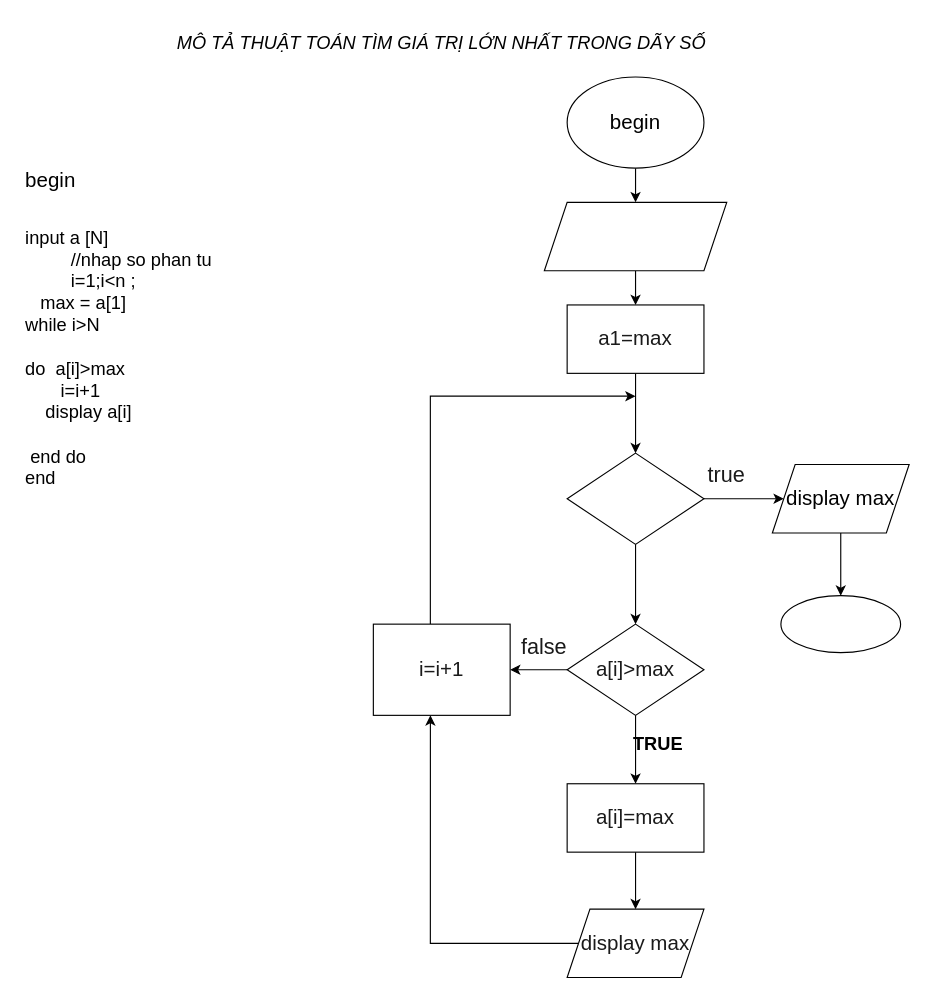
Some shapes in this 929 by 998 pixel diagram are drawn without their labels. The centre of each missing label's shape, as x and y in pixels:
"end" belongs at point 840,624.
"i>N" belongs at point 635,498.
"input N, a[N]" belongs at point 635,236.
